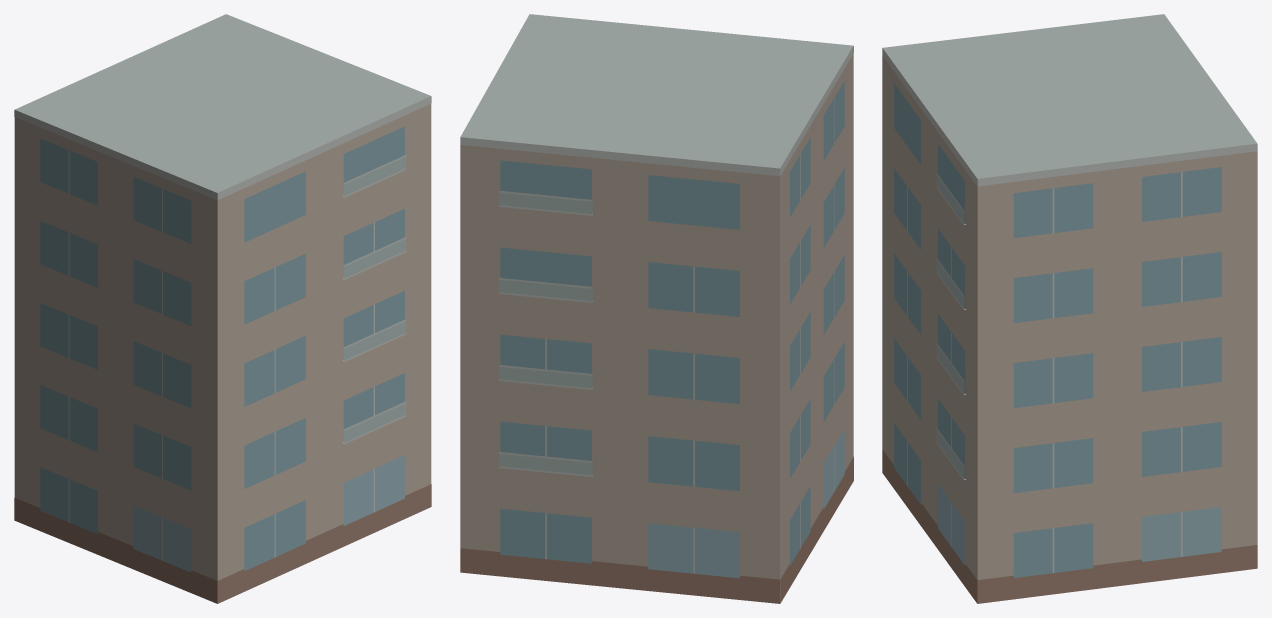
File: survey-upis-32617782.glb
3 views of the same model, side by side, from view 1: azimuth 30°, elevation 25°; view 2: azimuth 150°, elevation 25°; view 3: azimuth 270°, elevation 25° (orthographic). The views are drawn at different scales.
Visible parts, largest first — view 1: survey-upis-32617782.tmp; view 2: survey-upis-32617782.tmp; view 3: survey-upis-32617782.tmp.
Part boxes in pixels (x1,y1,x2,y2): survey-upis-32617782.tmp: (14, 14, 431, 603); survey-upis-32617782.tmp: (460, 14, 853, 603); survey-upis-32617782.tmp: (882, 14, 1257, 603).
Size of the model in its own units: 11.41 by 13.7 by 10.97.
